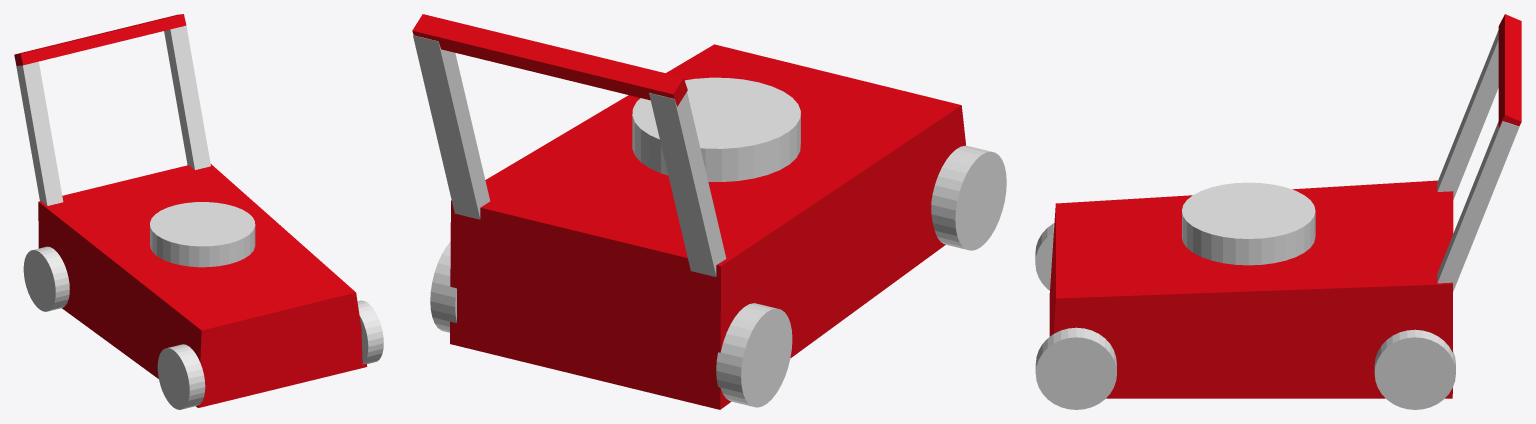
The model's file is LawnmoverTexture.fbx.
The picture shows the model from 3 angles, left to right: view 1: azimuth 30°, elevation 25°; view 2: azimuth 150°, elevation 25°; view 3: azimuth 270°, elevation 25°; orthographic projection. The views are drawn at different scales.
Parts seen in each view (by area): view 1: Cube, Cylinder, Cube.001, Cube.002, Cylinder.004, Cylinder.003, Cube.003, Cylinder.001; view 2: Cube, Cylinder, Cube.003, Cube.001, Cube.002, Cylinder.004, Cylinder.003, Cylinder.002; view 3: Cube, Cylinder, Cylinder.001, Cylinder.002, Cube.002, Cube.001, Cube.003, Cylinder.004.
Part boxes in pixels (x1,y1,x2,y2): Cube: (38,164,367,407); Cylinder: (150,202,255,267); Cube.001: (15,61,63,205); Cube.002: (164,20,210,169); Cylinder.004: (157,344,205,409); Cylinder.003: (23,246,69,311); Cube.003: (14,14,186,65); Cylinder.001: (357,300,383,364); Cube: (450,44,965,409); Cylinder: (632,77,800,181); Cube.003: (412,14,687,106); Cube.001: (649,92,726,276); Cube.002: (413,35,489,219); Cylinder.004: (931,145,1006,250); Cylinder.003: (716,303,792,407); Cylinder.002: (430,242,456,332); Cube: (1049,180,1453,398); Cylinder: (1182,182,1315,265); Cylinder.001: (1035,327,1116,409); Cylinder.002: (1374,329,1455,409); Cube.002: (1437,121,1519,291); Cube.001: (1437,30,1498,199); Cube.003: (1498,14,1521,127); Cylinder.004: (1035,223,1054,290).
Size of the model in its own units: 1332 by 1480 by 2281.
